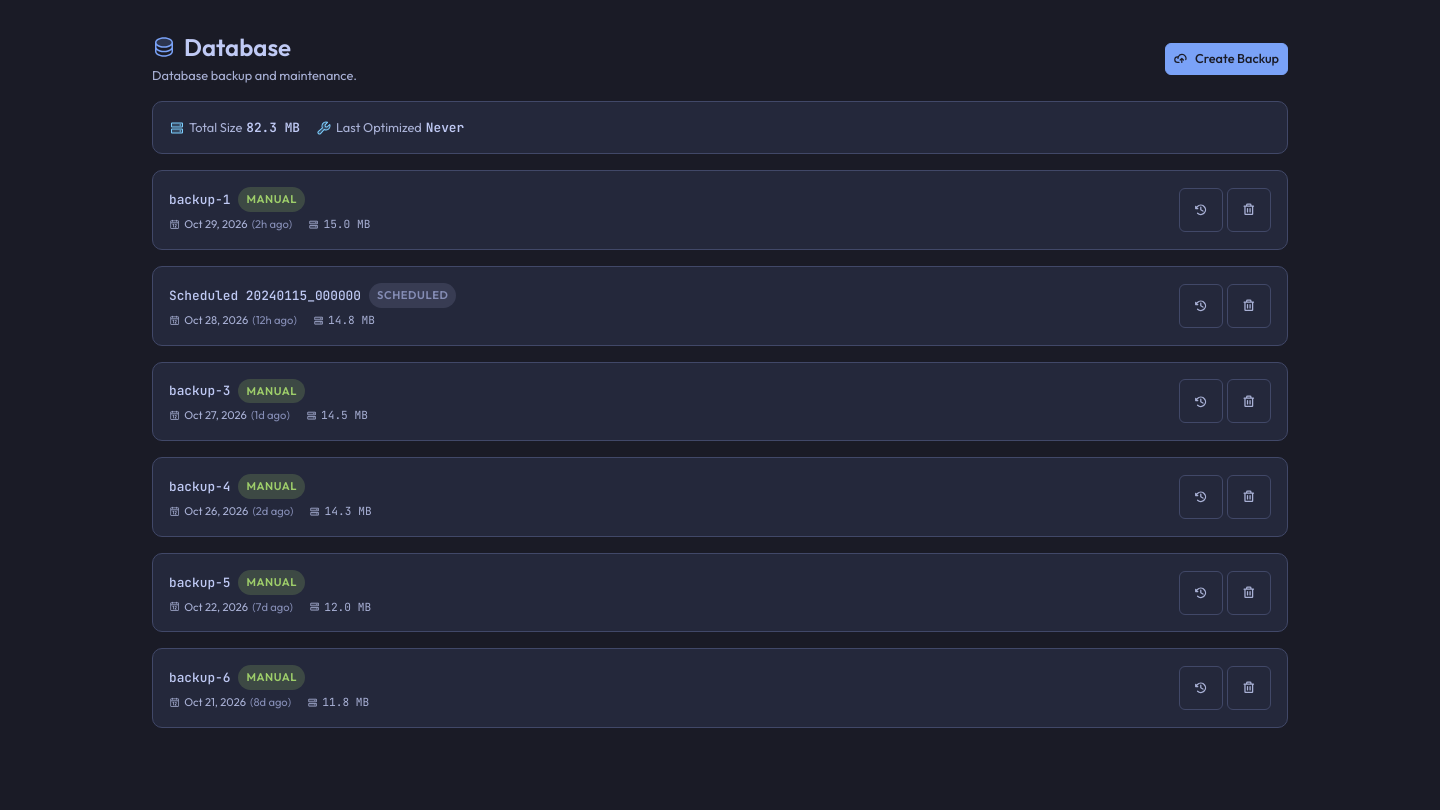
Test: BackupsPage actions › opens restore dialog when restore button is clicked
The width and height of the screenshot is (1440, 810).
Click the button named "restore from backup-1": (1201, 210) [1179,188,1223,232]
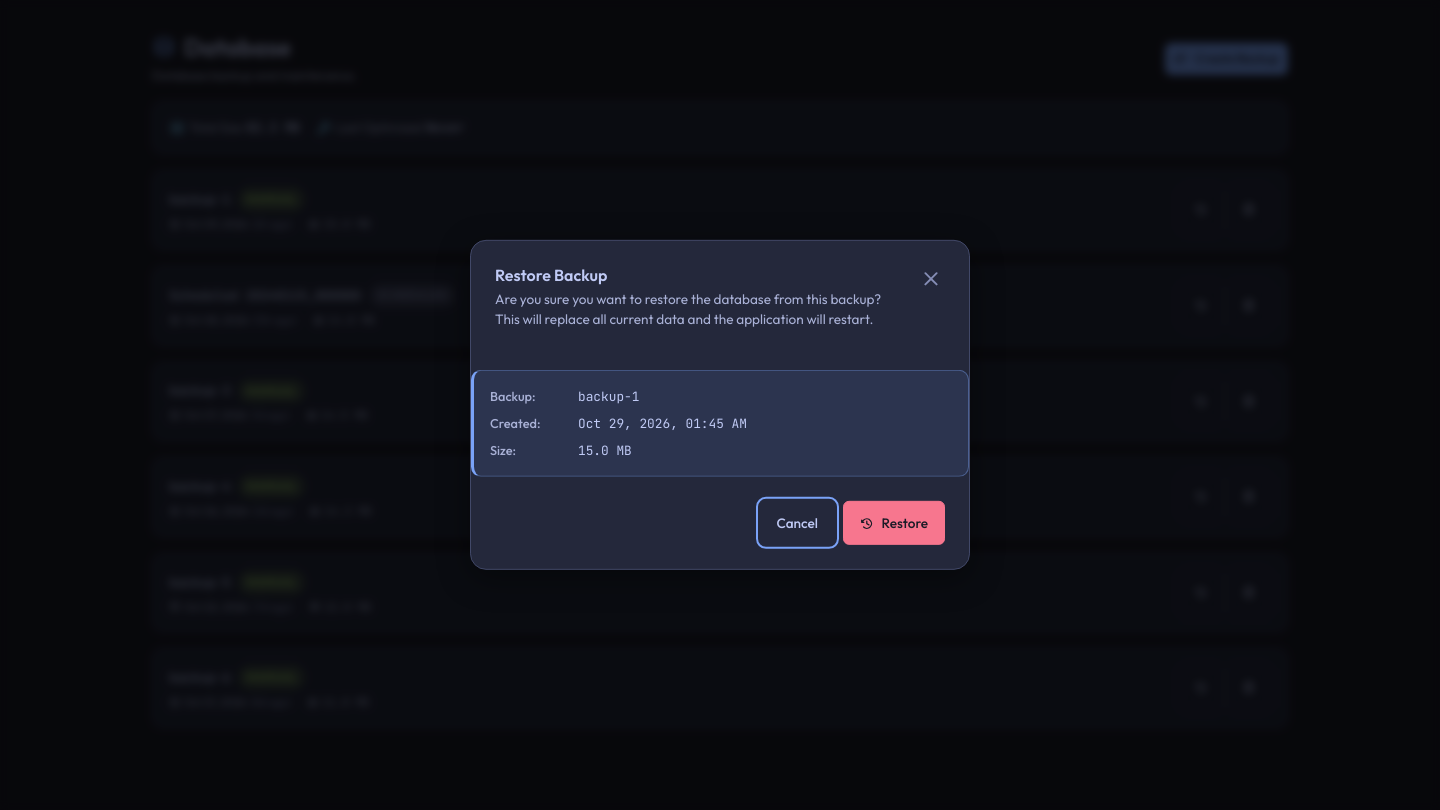
Expected: the dialog is shown, [470,240,970,570]
Expected: the heading "Restore Backup" is shown, [495,265,607,285]
